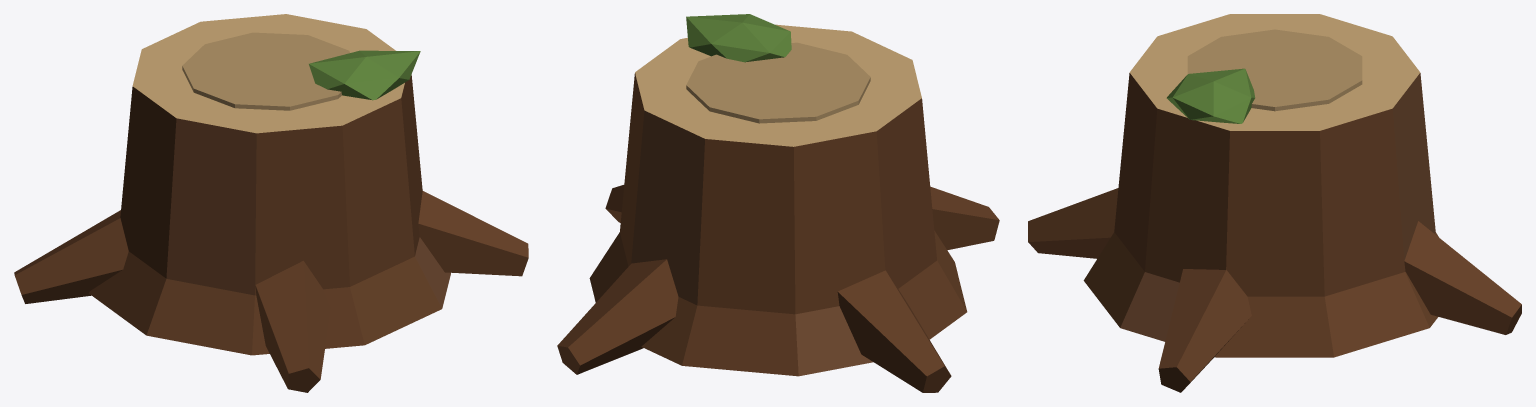
Rendered from Stump.glb.
3 views of the same model, side by side, from view 1: azimuth 30°, elevation 25°; view 2: azimuth 150°, elevation 25°; view 3: azimuth 270°, elevation 25° (orthographic). The views are drawn at different scales.
Parts seen in each view (by area): view 1: Body; view 2: Body; view 3: Body.
Part boxes in pixels (x1,y1,x2,y2): Body: [14, 14, 528, 392]; Body: [557, 14, 999, 392]; Body: [1028, 14, 1521, 392].
Size of the model in its own units: 3.23 by 1.76 by 3.23.
